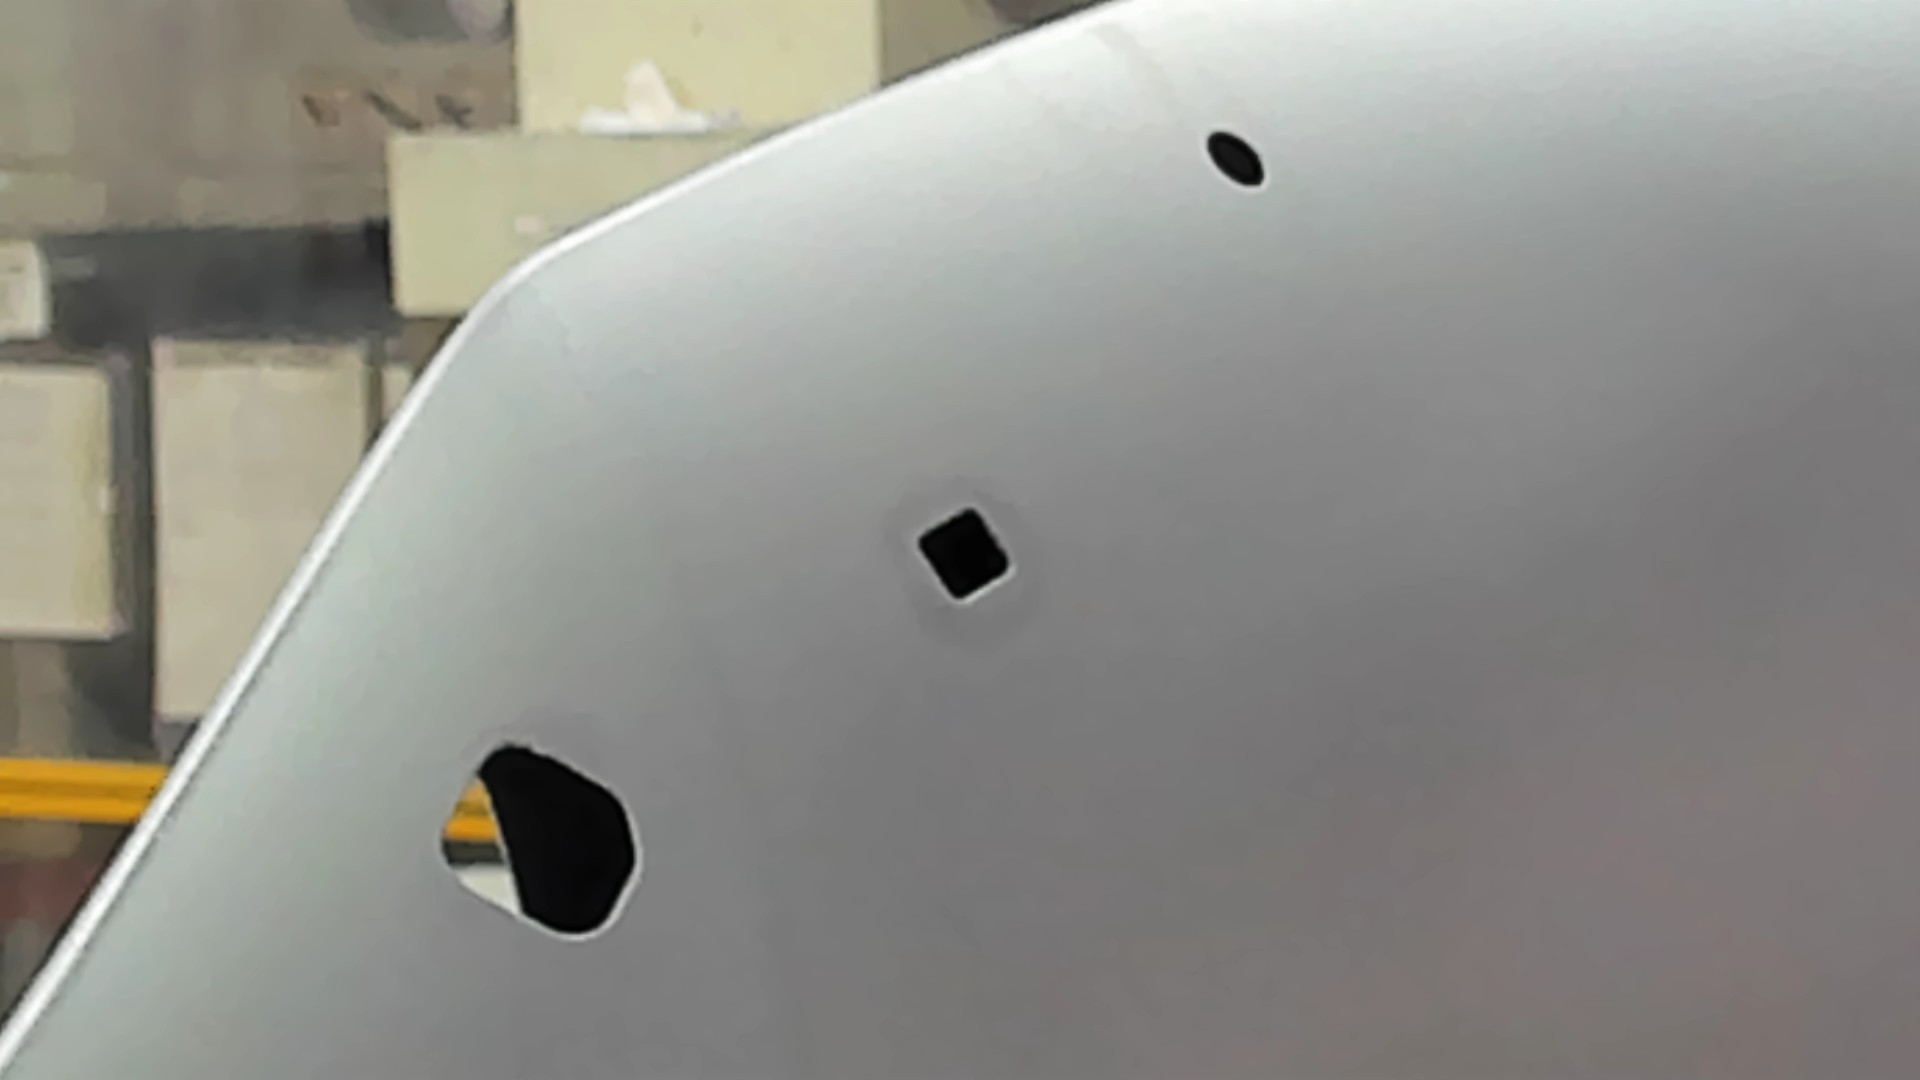chico: (1201, 128, 1270, 194)
grande: (433, 738, 647, 945)
mediano: (910, 498, 1018, 611)
